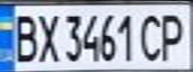1: (115, 10, 139, 62)
3: (60, 9, 84, 63)
4: (78, 9, 100, 63)
6: (100, 10, 121, 63)
B: (6, 10, 42, 63)
C: (136, 10, 166, 62)
P: (157, 9, 190, 62)
X: (33, 9, 60, 63)
